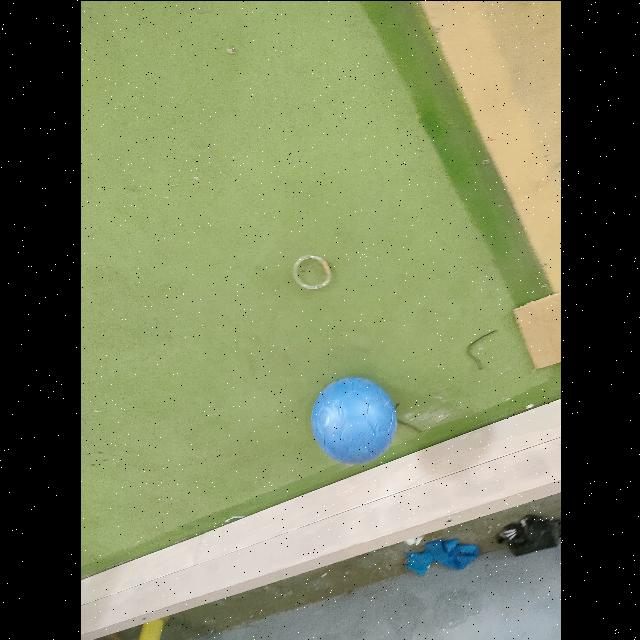B: (310, 377, 396, 463)
